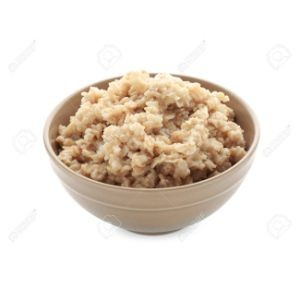oat_brain food: (94, 87, 199, 167)
